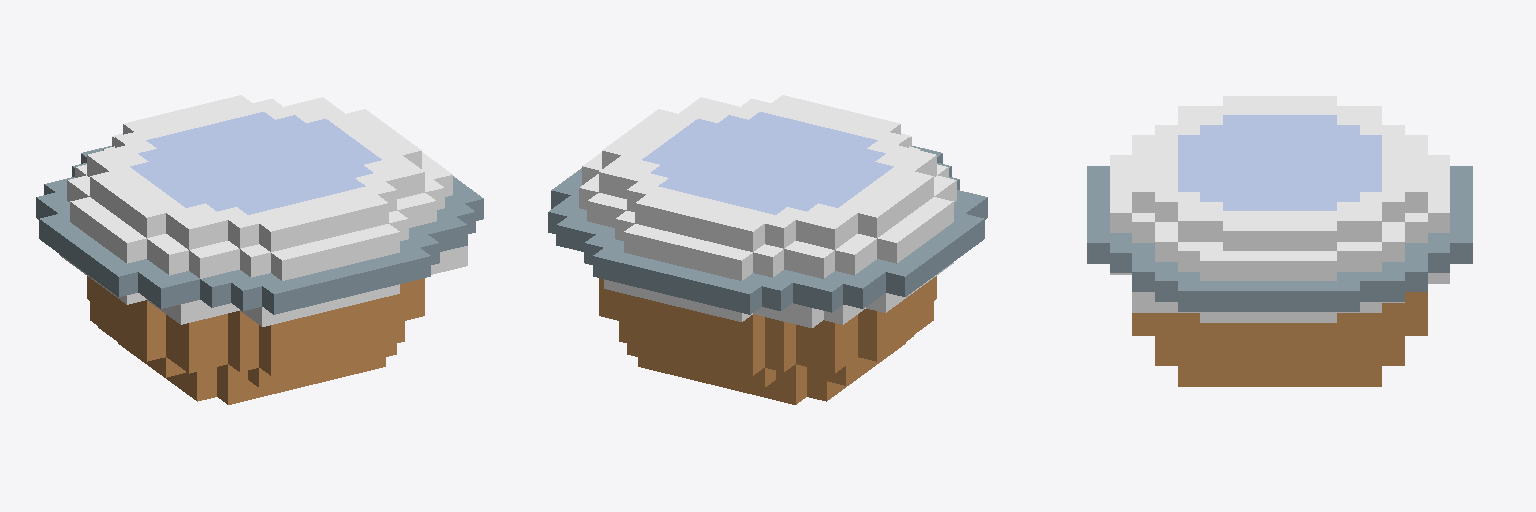
3 views of the same model, side by side, from view 1: azimuth 30°, elevation 25°; view 2: azimuth 150°, elevation 25°; view 3: azimuth 270°, elevation 25° (orthographic).
Visible parts, largest first — view 1: object 1; view 2: object 1; view 3: object 1.
Boxes of the visible parts, x1=… form: object 1: x1=36, y1=95, x2=483, y2=404; object 1: x1=548, y1=95, x2=987, y2=404; object 1: x1=1087, y1=96, x2=1472, y2=386.
Bounding box in the file's own units: 1.8 × 0.9 × 1.7.
Materials: 1 (1 with a texture image).